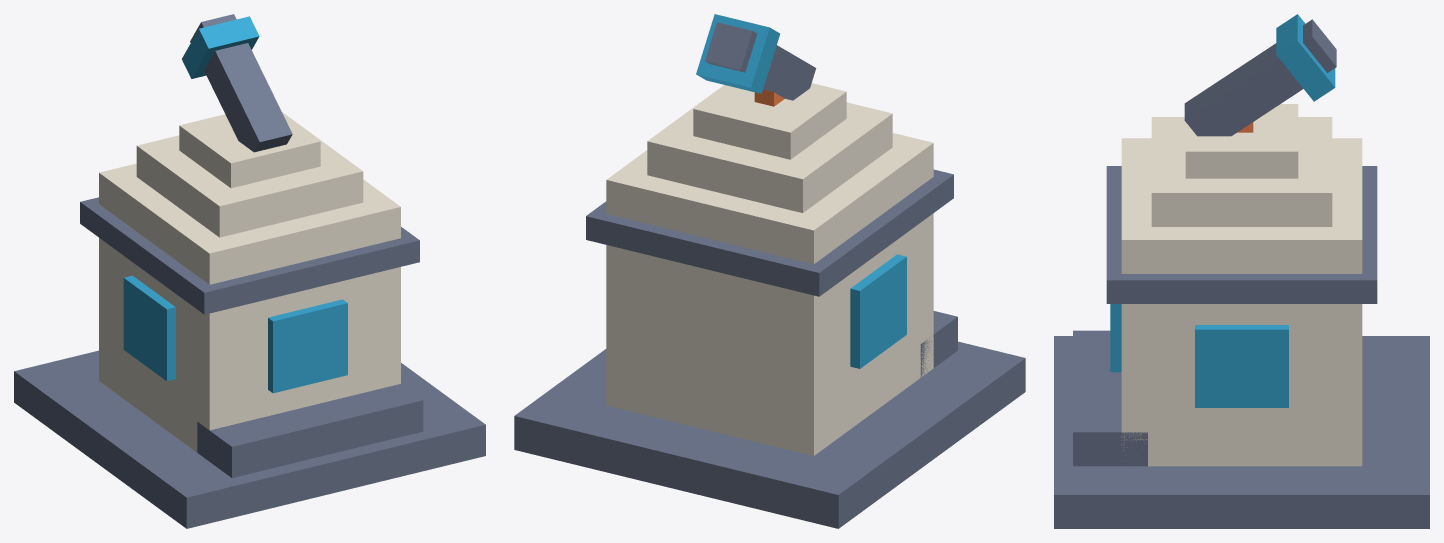
The model's file is forest-observatory.glb.
3 renders of one model, left to right at view 1: azimuth 30°, elevation 25°; view 2: azimuth 150°, elevation 25°; view 3: azimuth 270°, elevation 25°, orthographic. The views are drawn at different scales.
Parts seen in each view (by area): view 1: forest-observatory-f1eadb, forest-observatory-6d7890, forest-observatory-36a9d6; view 2: forest-observatory-f1eadb, forest-observatory-6d7890, forest-observatory-36a9d6; view 3: forest-observatory-f1eadb, forest-observatory-6d7890, forest-observatory-36a9d6.
Part boxes in pixels (x1=…): forest-observatory-f1eadb: x1=99, y1=112, x2=400, y2=452; forest-observatory-6d7890: x1=14, y1=14, x2=485, y2=528; forest-observatory-36a9d6: x1=123, y1=16, x2=347, y2=393; forest-observatory-f1eadb: x1=606, y1=83, x2=933, y2=455; forest-observatory-6d7890: x1=514, y1=22, x2=1025, y2=528; forest-observatory-36a9d6: x1=696, y1=14, x2=906, y2=368; forest-observatory-f1eadb: x1=1121, y1=104, x2=1362, y2=466; forest-observatory-6d7890: x1=1054, y1=19, x2=1429, y2=528; forest-observatory-36a9d6: x1=1110, y1=14, x2=1335, y2=407.
Size of the model in its own units: 5 by 6.2 by 5.
